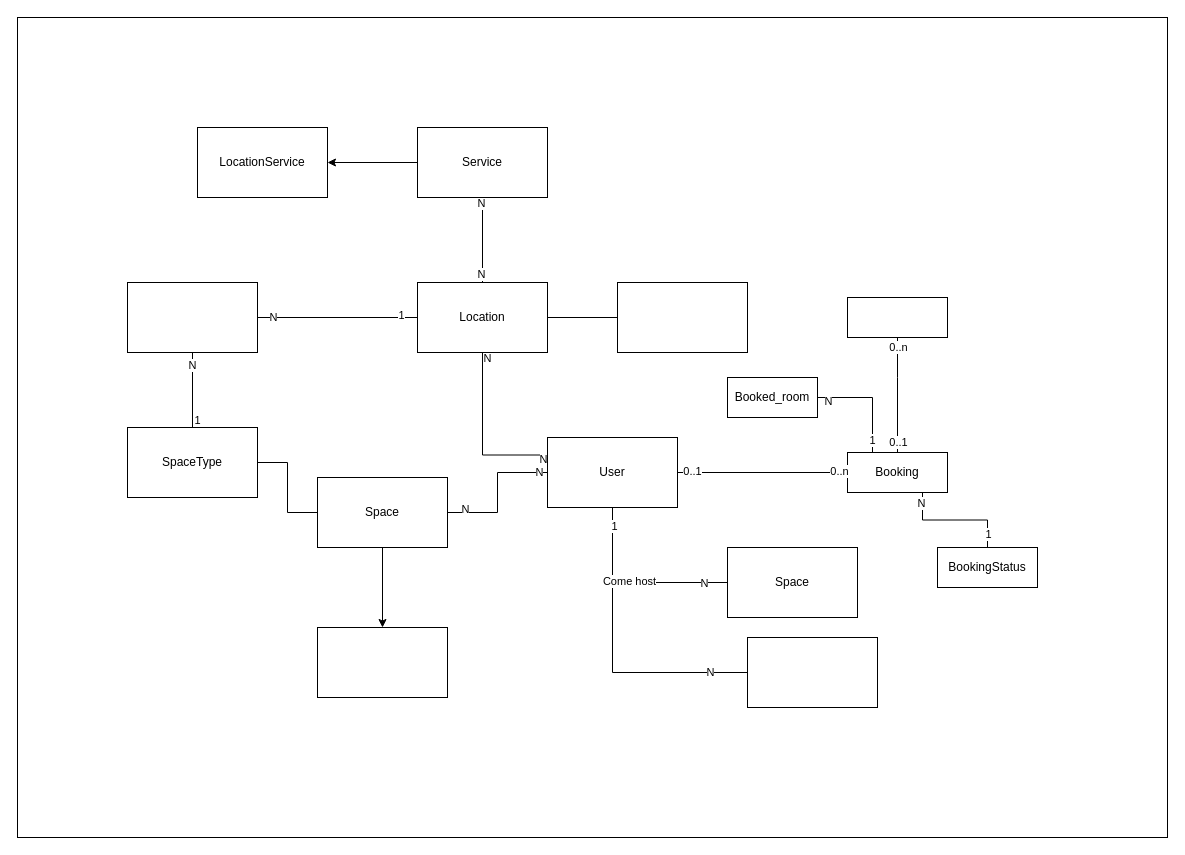
This 1185x855 diagram has some shape labels left out. The centre of each missing label's shape, as x and y in pixels:
"Availability" belongs at point (192, 317).
"Favorite_Location" belongs at point (682, 317).
"Favorite_Space" belongs at point (382, 662).
"Notication" belongs at point (812, 672).
"Payment" belongs at point (897, 317).
